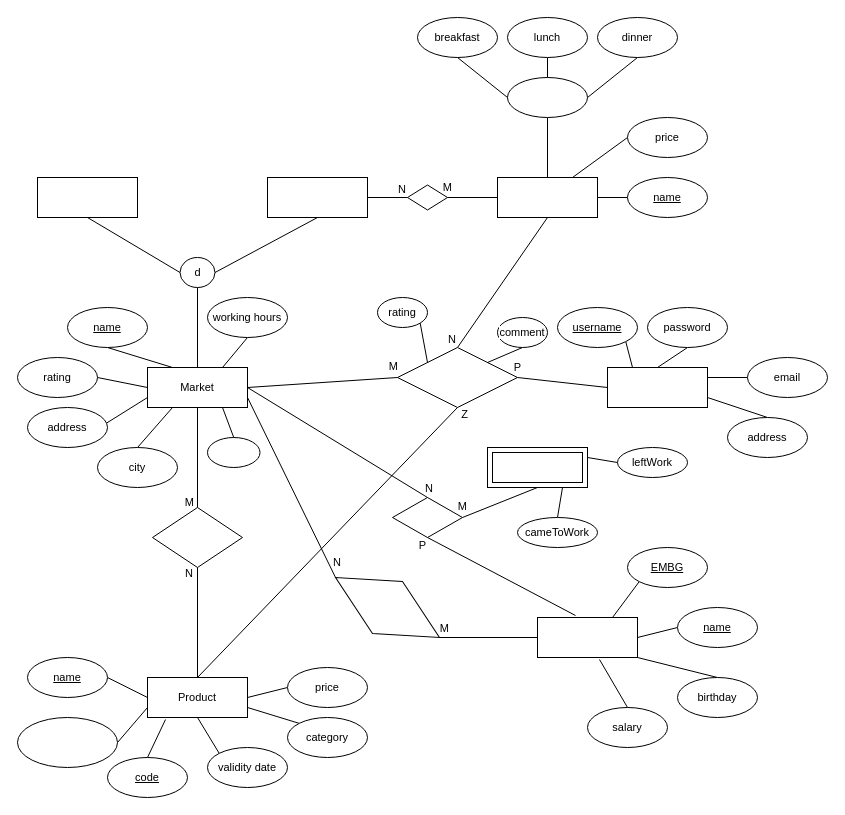
Some shapes in this 845 by 815 pixel diagram are drawn without their labels. Each missing label, with the centre of its shape:
"date of production" belongs at [67,742].
"Employee" belongs at [587,637].
"manager" belongs at [233,452].
"Prepared food market" belongs at [317,197].
"RATE" belongs at [457,377].
"Specialty" belongs at [547,197].
"Supermarket" belongs at [87,197].
"type" belongs at [547,97].
"User" belongs at [657,387].
"Working Day" belongs at [537,467].
"WorksFor" belongs at [387,607].
